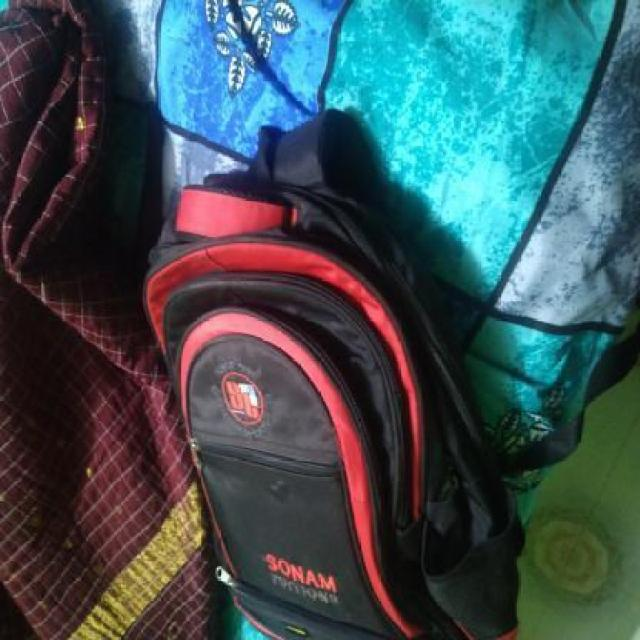backpack: (134, 104, 531, 640)
